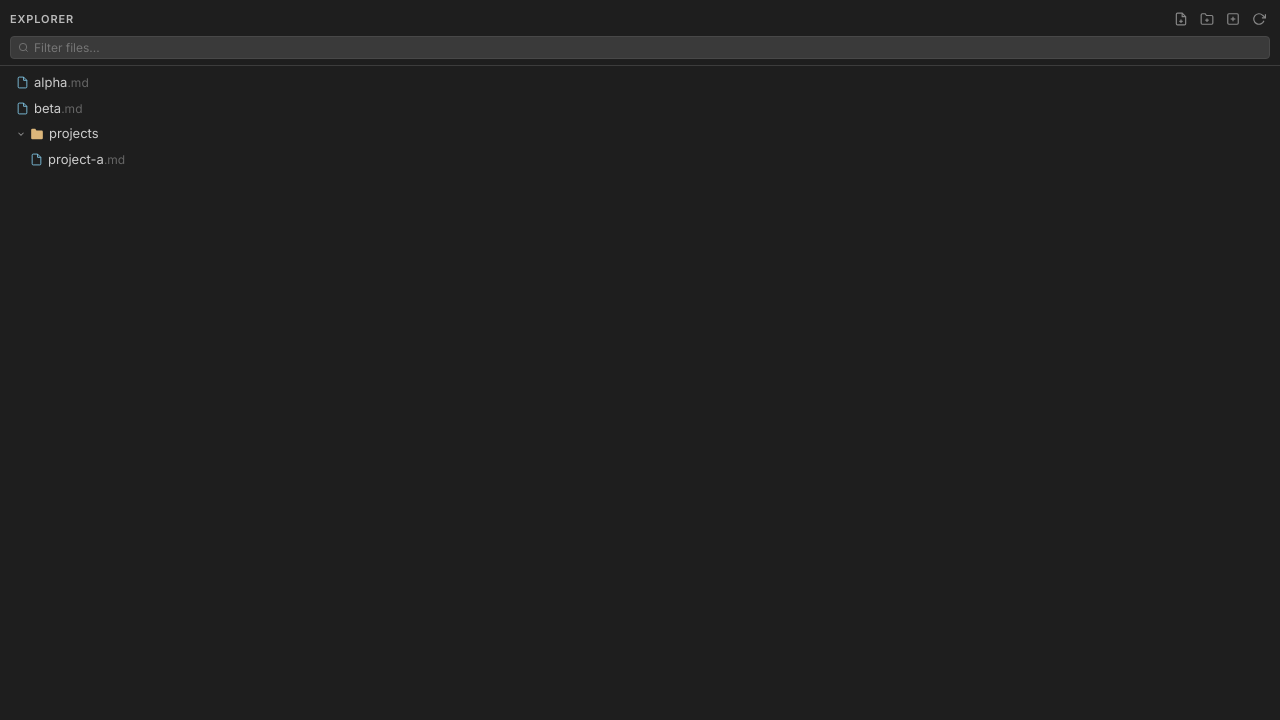
Test: FileTree › InputModal for new file/folder › dismisses InputModal when Cancel is clicked
Click the button titled "New note".
click(1181, 19)  # box [1170,8,1192,30]
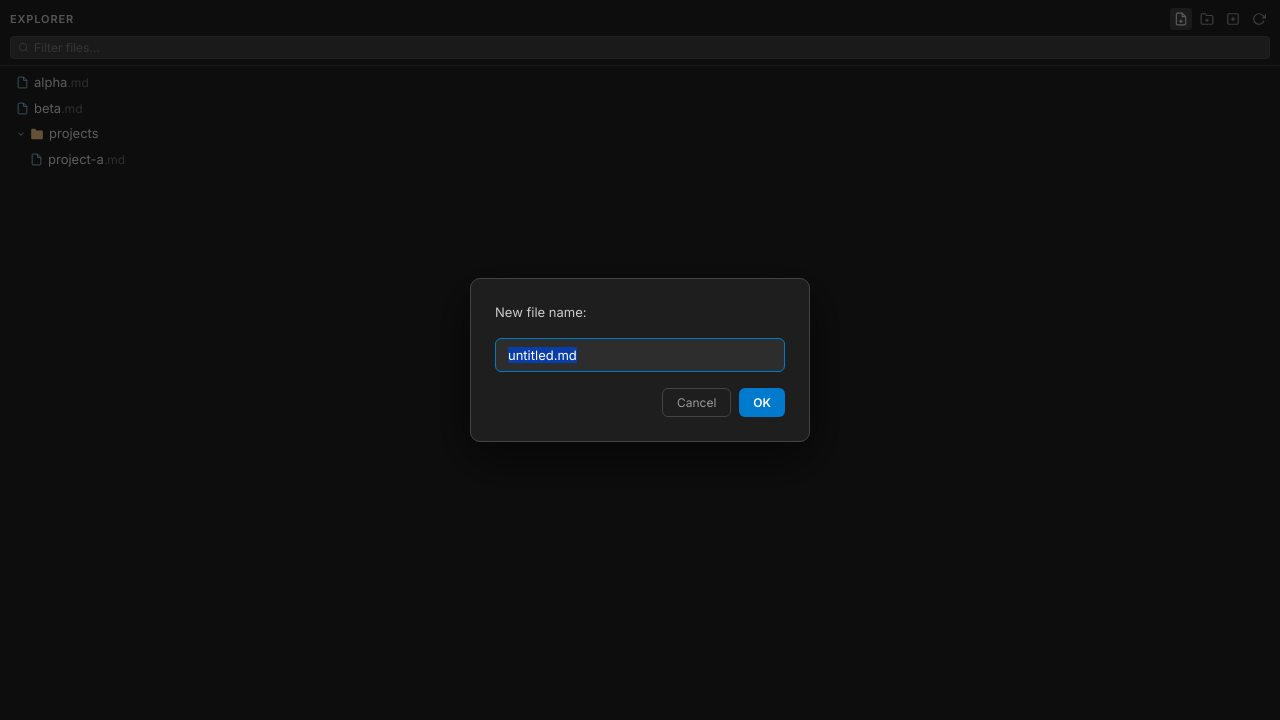
Expected: the text "New file name:" is shown, [495,304,586,320]
Click the button "Cancel".
click(697, 403)  # box [662,388,731,417]
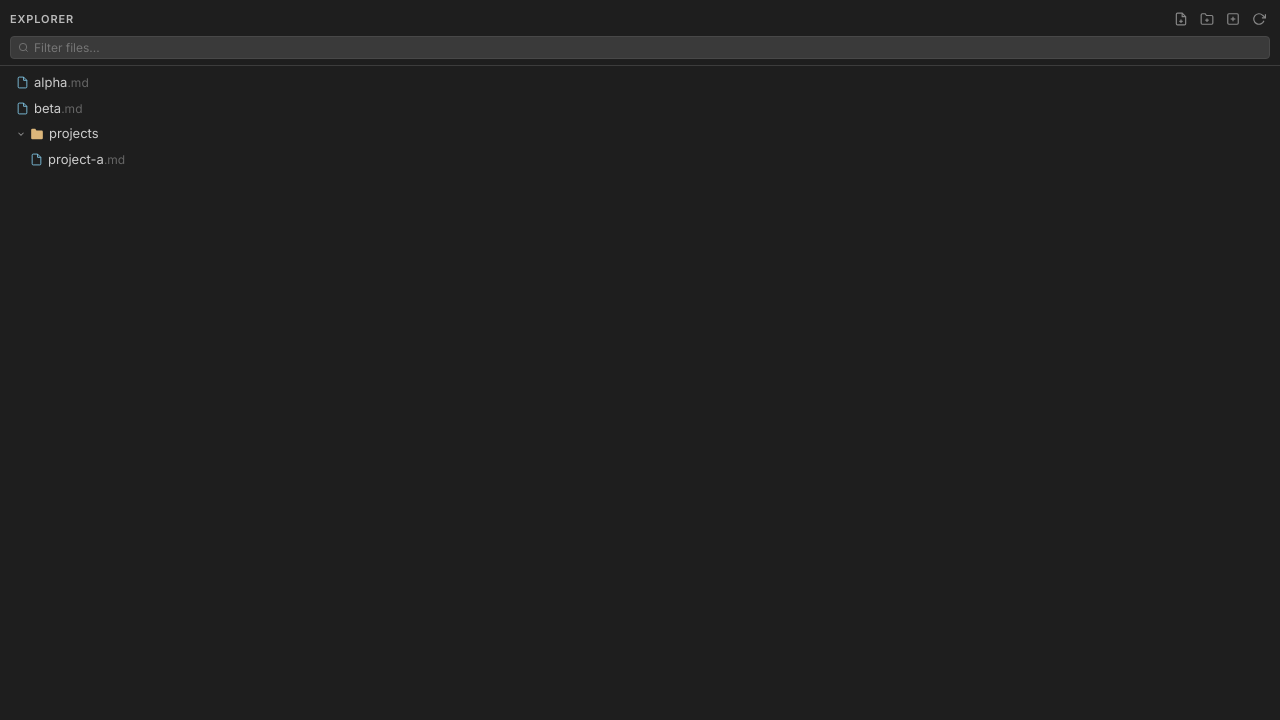
Expected: the text "New file name:" is gone
